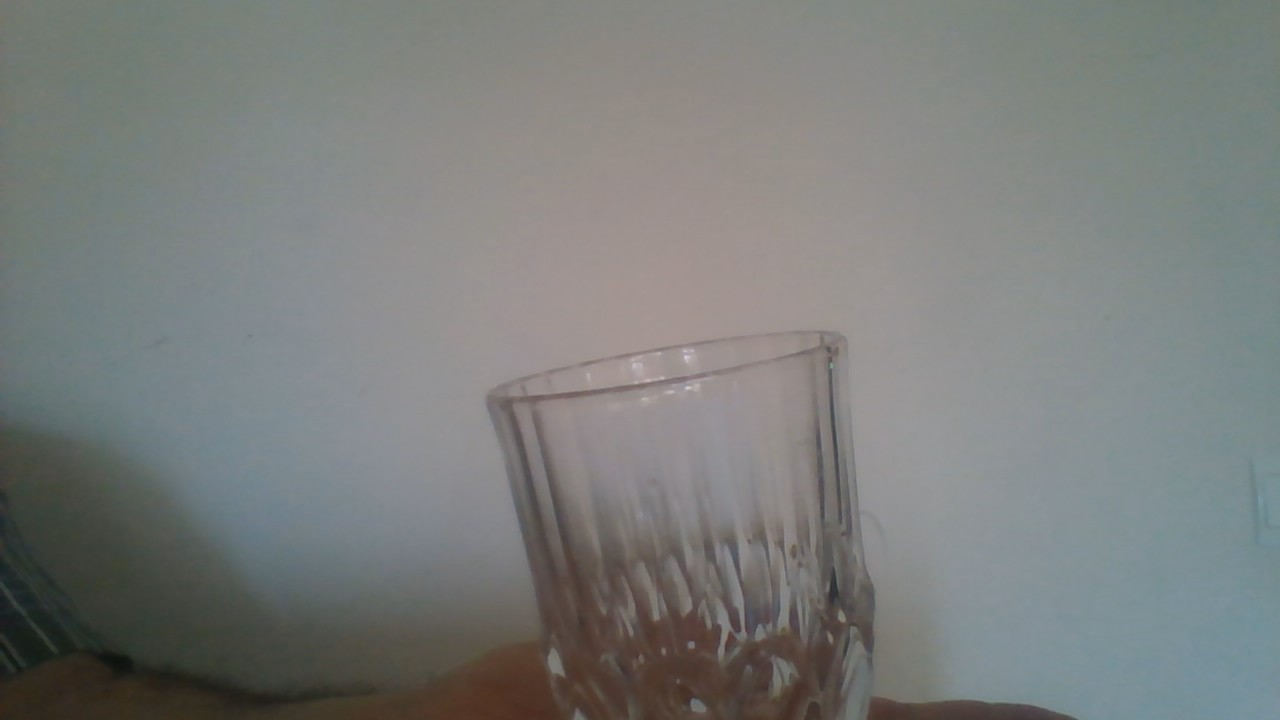glass: (481, 321, 889, 720)
